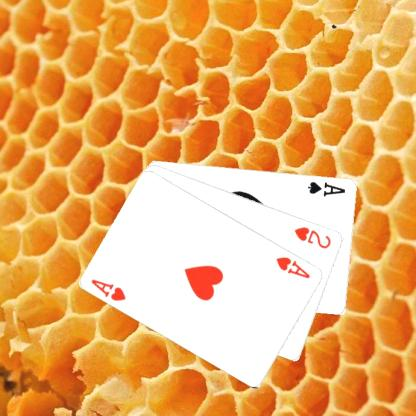2H: (292, 224, 333, 250)
AH: (89, 276, 128, 303), (273, 254, 312, 280)
AS: (306, 178, 347, 198)
